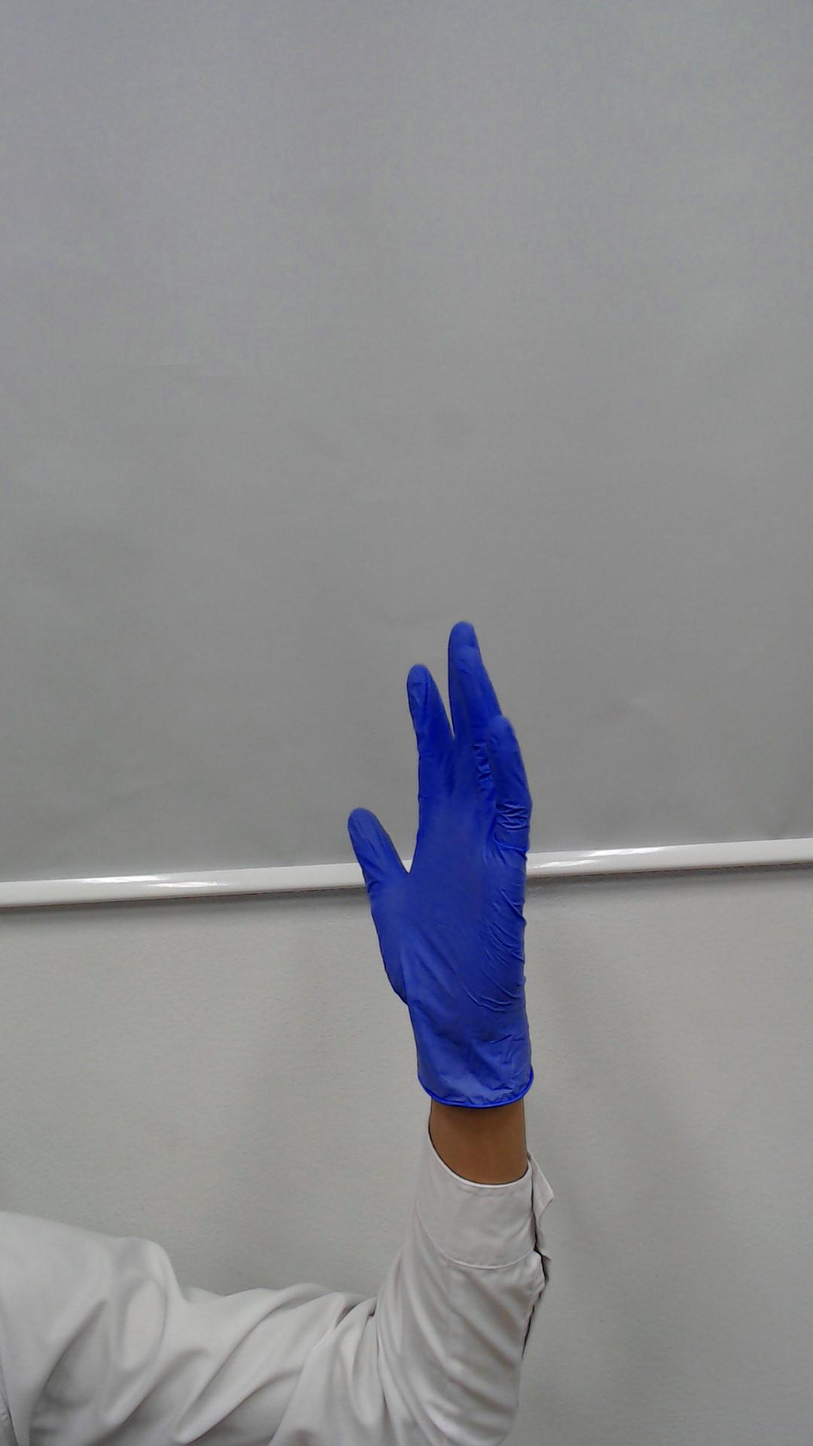gloves: (312, 580, 566, 1043)
